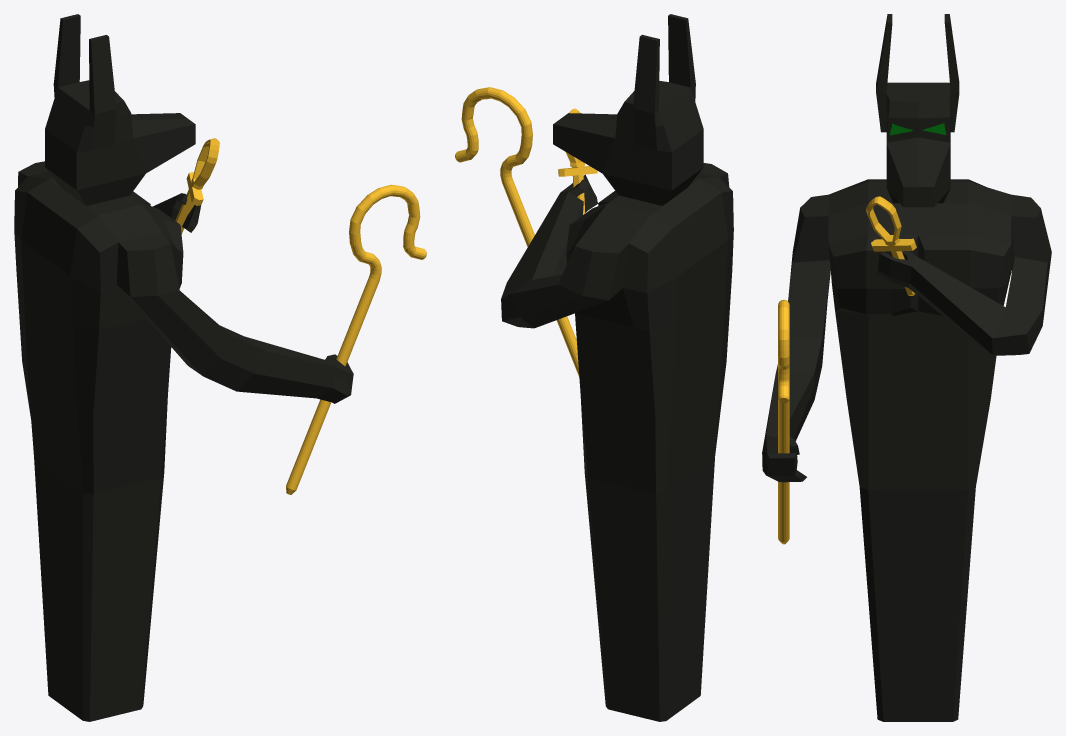
The model's file is Anubis Statue.glb.
The picture shows the model from 3 angles, left to right: view 1: azimuth 30°, elevation 25°; view 2: azimuth 150°, elevation 25°; view 3: azimuth 270°, elevation 25°; orthographic projection.
Visible parts, largest first — view 1: Anubis_Cube, Scepter_Cylinder.001, Anhk_Cylinder.003; view 2: Anubis_Cube, Scepter_Cylinder.001, Anhk_Cylinder.003; view 3: Anubis_Cube, Scepter_Cylinder.001, Anhk_Cylinder.003.
Part boxes in pixels (box(x1,y1,x2,y2)): Anubis_Cube: box(14, 14, 353, 721); Scepter_Cylinder.001: box(286, 184, 426, 494); Anhk_Cylinder.003: box(175, 138, 219, 233); Anubis_Cube: box(501, 14, 733, 721); Scepter_Cylinder.001: box(455, 87, 579, 376); Anhk_Cylinder.003: box(558, 108, 597, 214); Anubis_Cube: box(762, 14, 1051, 721); Scepter_Cylinder.001: box(778, 299, 789, 544); Anhk_Cylinder.003: box(866, 196, 916, 295).
Bounding box in the file's own units: 6.28 × 12.94 × 4.97.
Materials: 3 (3 with a texture image).
